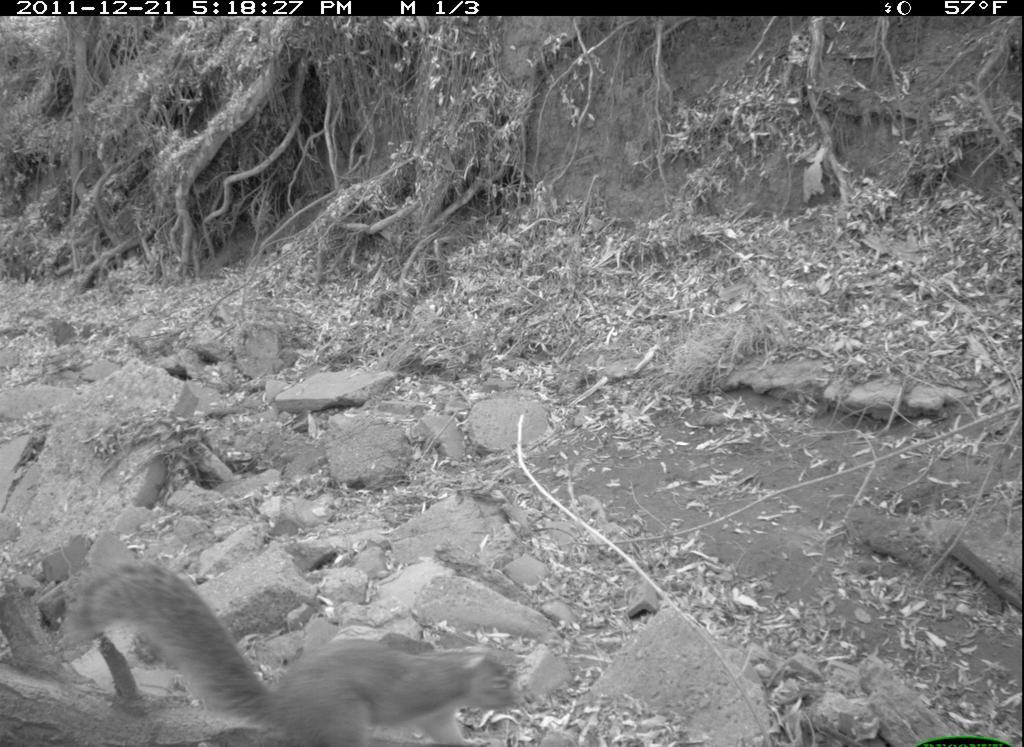squirrel: (39, 547, 537, 747)
